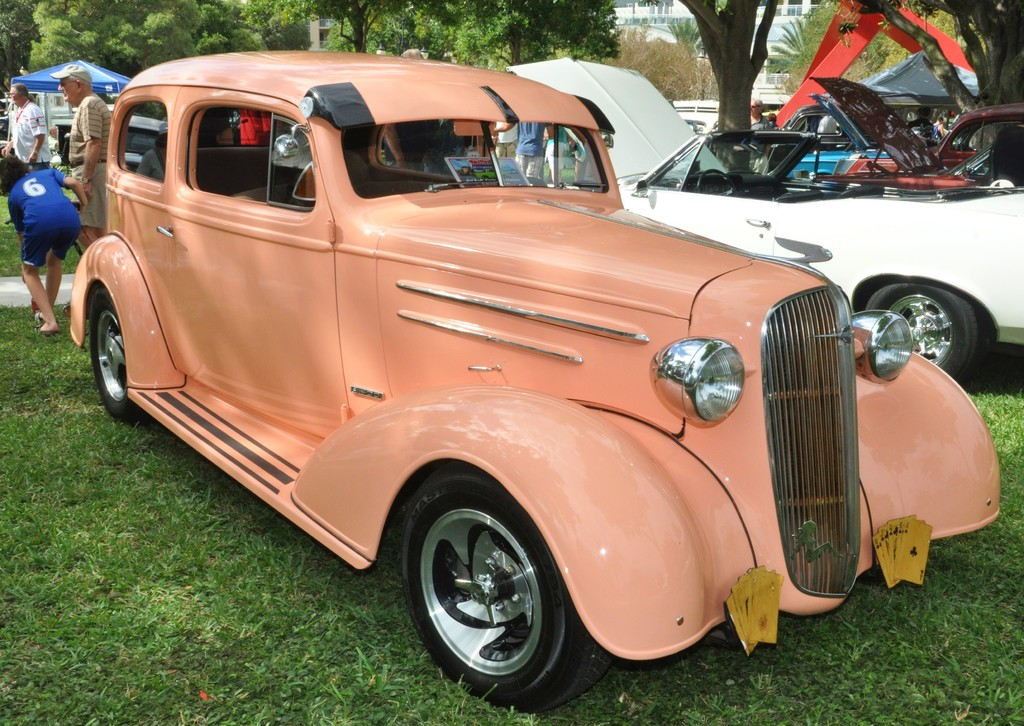cars: (60, 46, 1006, 712), (511, 53, 1023, 394), (805, 78, 1023, 189), (767, 85, 892, 177)
